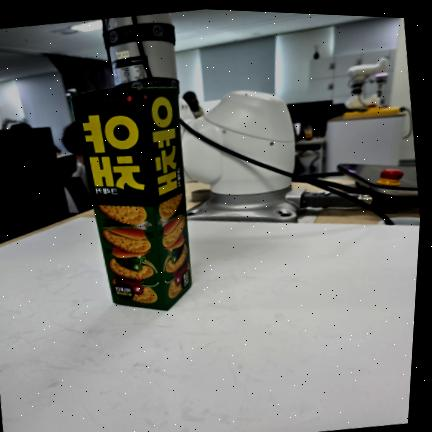cracker_vege: (71, 86, 191, 310)
